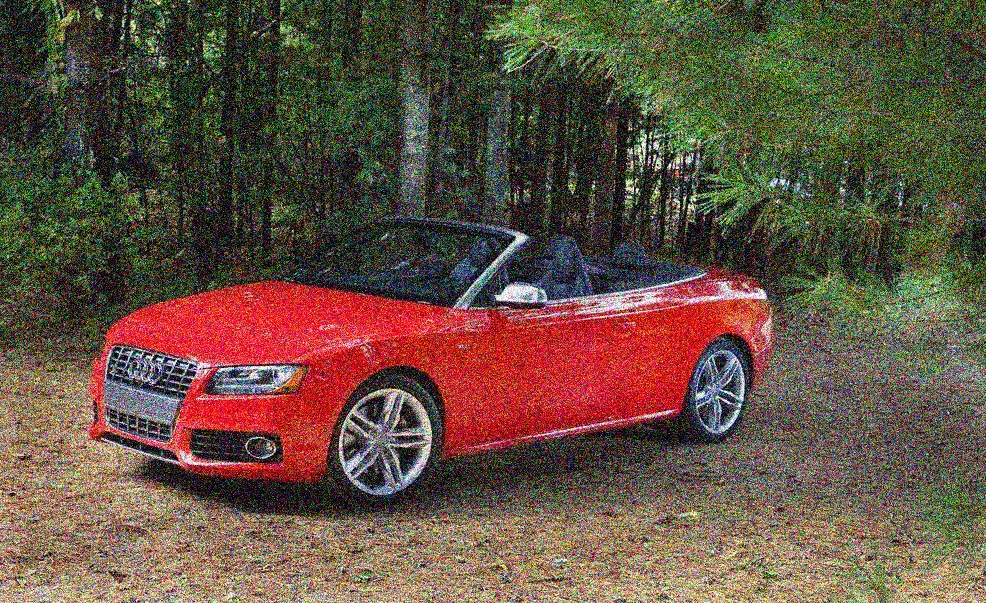car: (49, 168, 782, 550)
